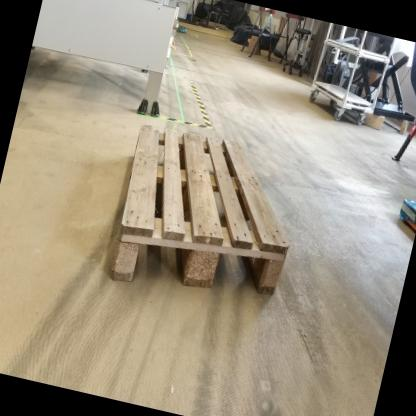BoxFace: (106, 117, 292, 301)
